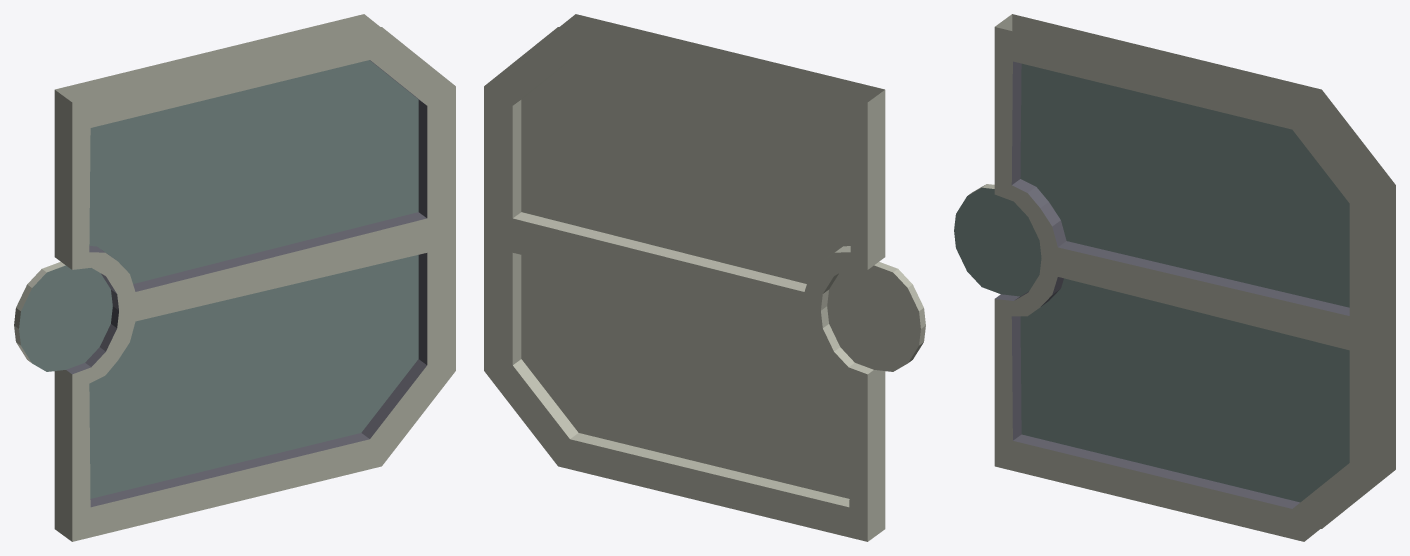
Rendered from doorpartright.fbx.
The picture shows the model from 3 angles, left to right: view 1: azimuth 30°, elevation 25°; view 2: azimuth 150°, elevation 25°; view 3: azimuth 330°, elevation 25°; orthographic projection.
Visible parts, largest first — view 1: Cube.102; view 2: Cube.102; view 3: Cube.102.
Boxes of the visible parts, <box> form: Cube.102: <box>14,14,455,541</box>; Cube.102: <box>484,14,925,541</box>; Cube.102: <box>954,14,1395,541</box>.
Size of the model in its own units: 331 by 323 by 23.46.
